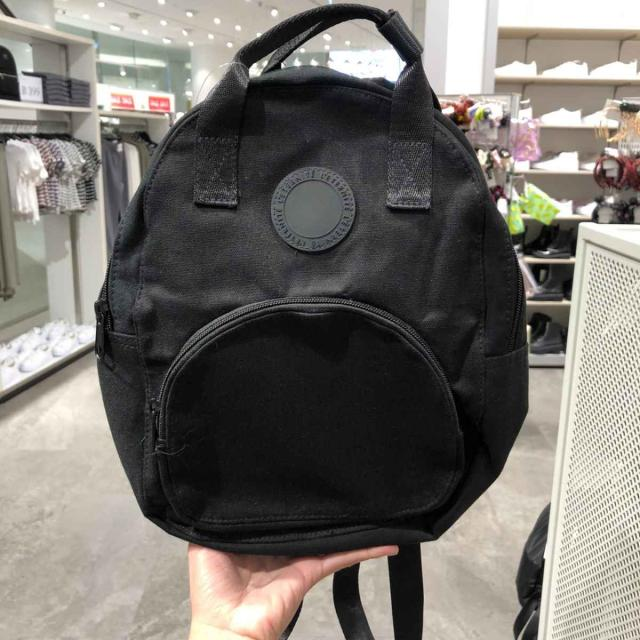Handbag: (98, 30, 527, 557)
